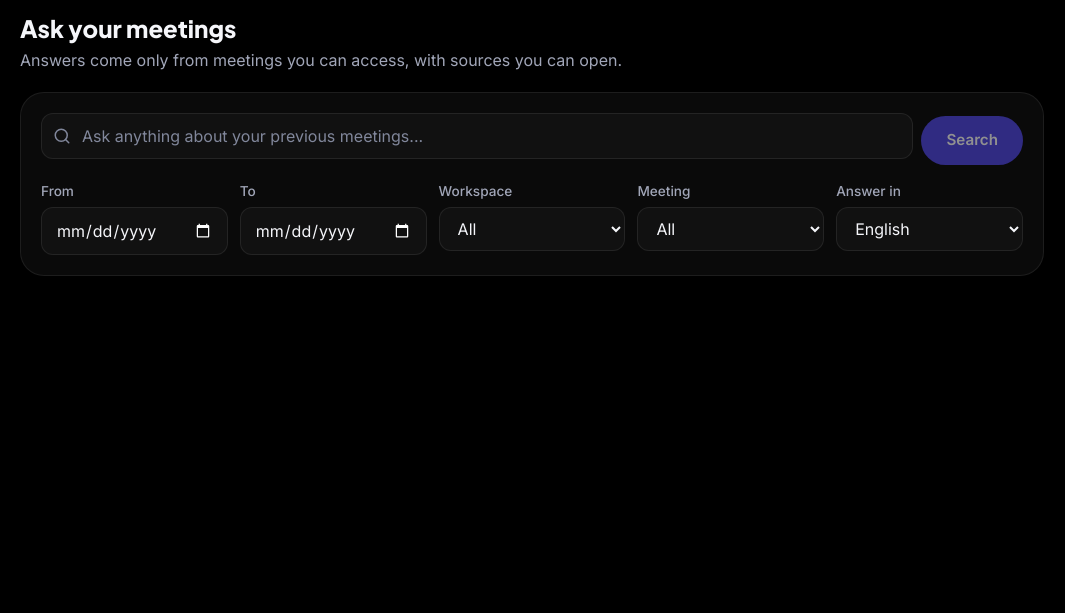
MeetingSearch page states › keyword-only without a key shows Not configured plus the excerpts
The width and height of the screenshot is (1065, 613).
In the text box labelled "Ask anything about your previous meetings...": (477, 136) 41,113 -> 913,159, type "dashboard"
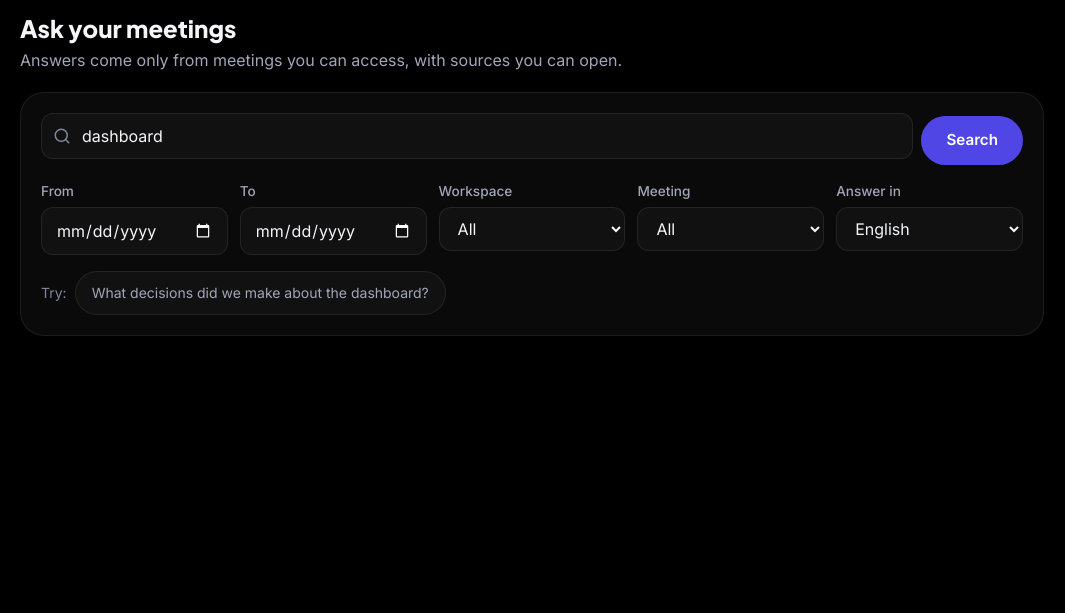
Press Enter in the text box named "Ask anything", box 41,113 -> 913,159
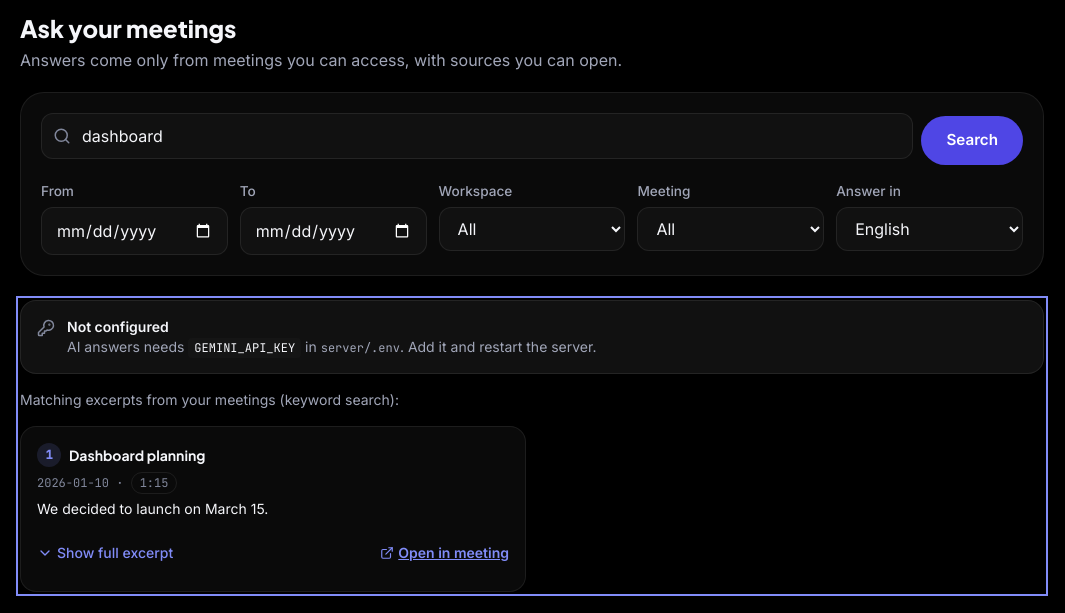
Now the text "GEMINI_API_KEY" is shown, box 188,338 -> 301,358
Now the text "Matching excerpts from your meetings (keyword search):" is shown, box 20,391 -> 399,408
Now the text "We decided to launch on March 15." is shown, box 36,499 -> 268,517
